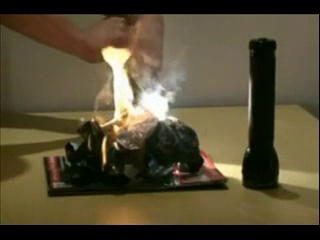fire: (101, 43, 132, 117), (90, 118, 134, 169)
smoke: (133, 56, 184, 137)
